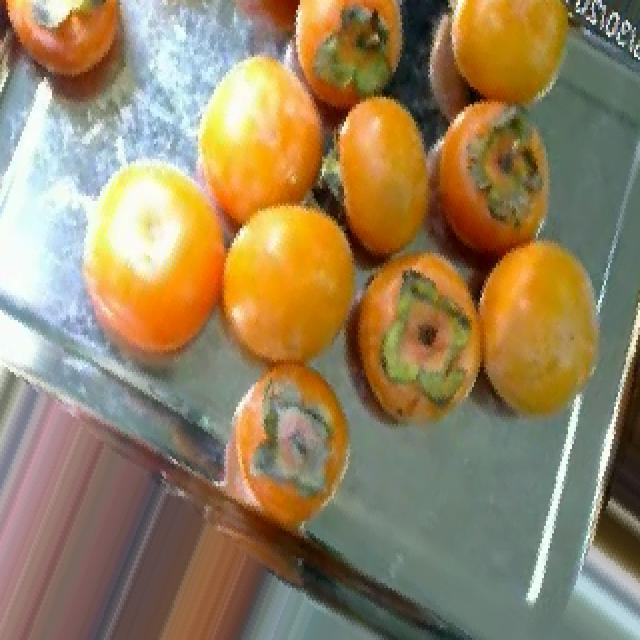Fruit: (412, 0, 594, 139)
